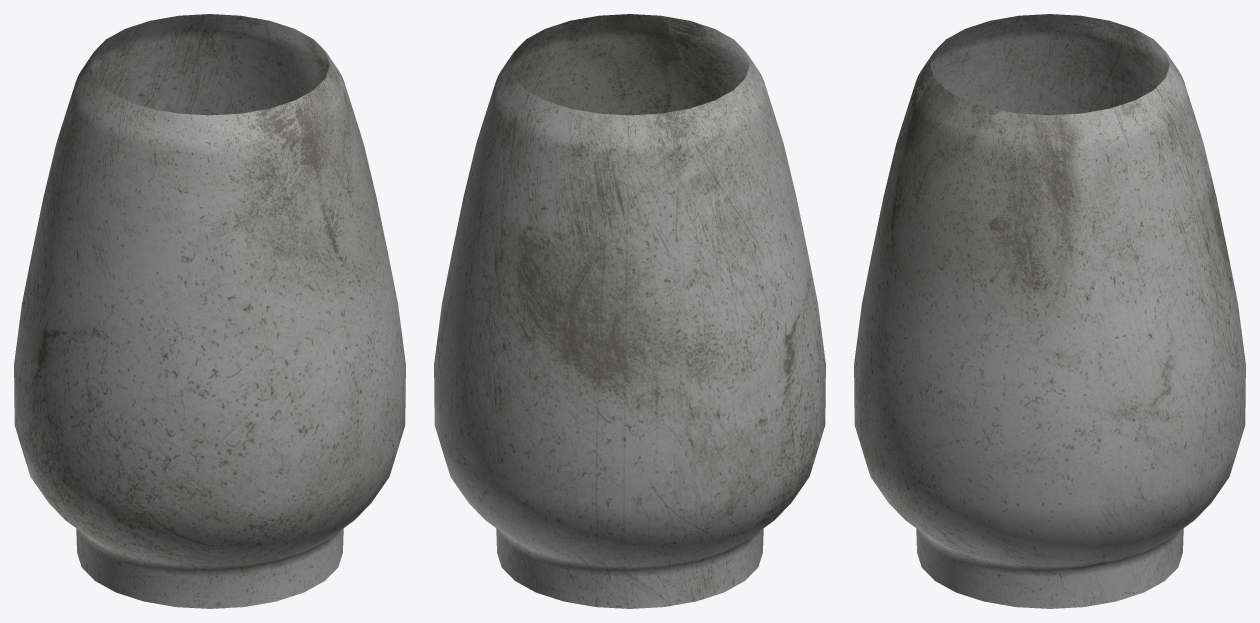
File: oilLampGlass.obj
3 renders of one model, left to right at view 1: azimuth 30°, elevation 25°; view 2: azimuth 150°, elevation 25°; view 3: azimuth 270°, elevation 25°, orthographic.
Parts seen in each view (by area): view 1: glass_glass_mat_0; view 2: glass_glass_mat_0; view 3: glass_glass_mat_0.
Part boxes in pixels (x1,y1,x2,y2): glass_glass_mat_0: (14, 14, 405, 608); glass_glass_mat_0: (434, 14, 825, 608); glass_glass_mat_0: (854, 14, 1245, 608).
Bounding box in the file's own units: 0.0198 × 0.0272 × 0.0198.
1 material, 1 textured.
